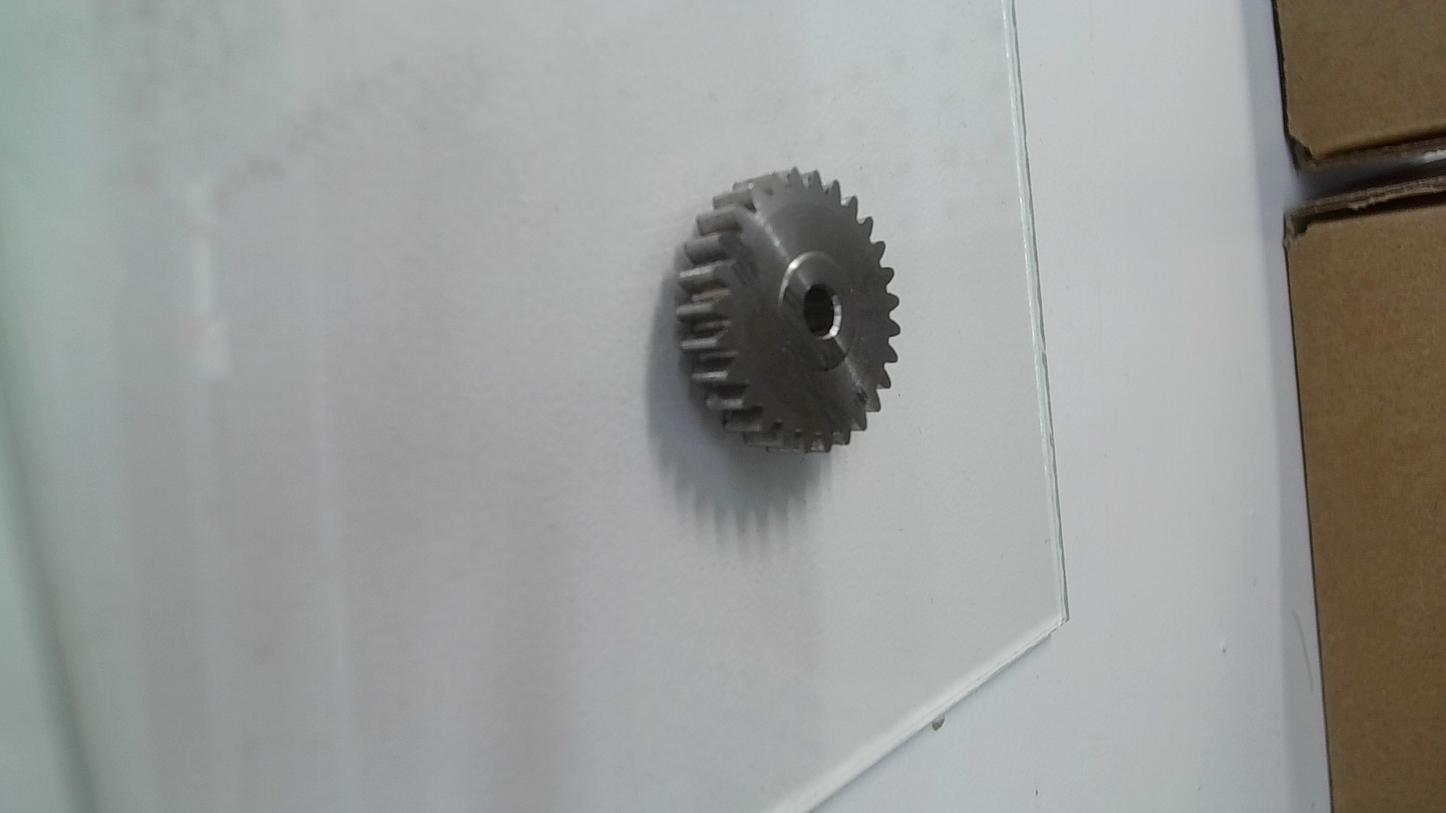gear: (672, 160, 903, 455)
